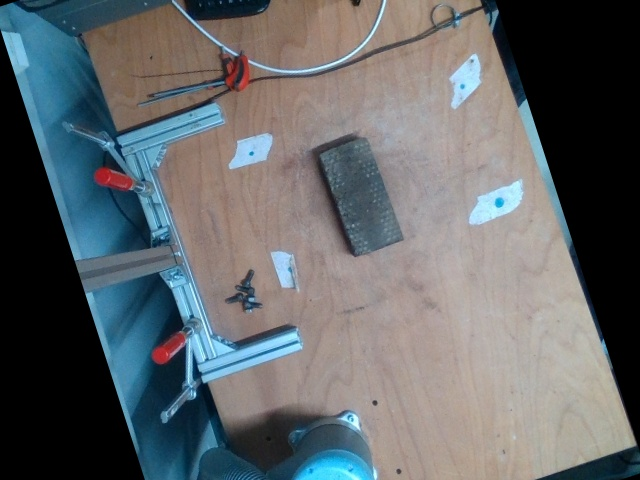brick: (319, 133, 404, 254)
